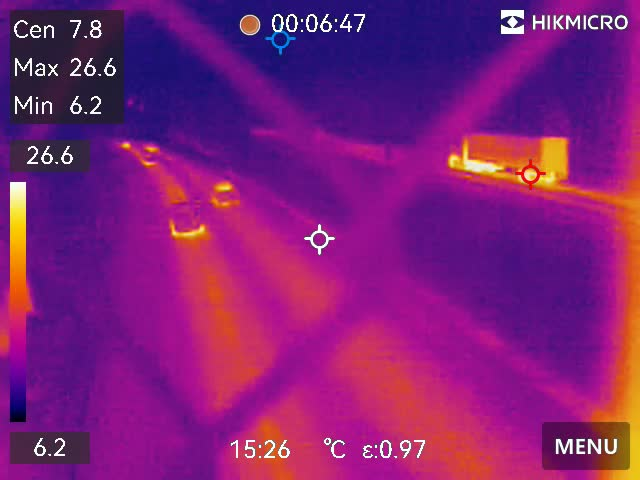heavyTruck: (442, 130, 569, 186)
